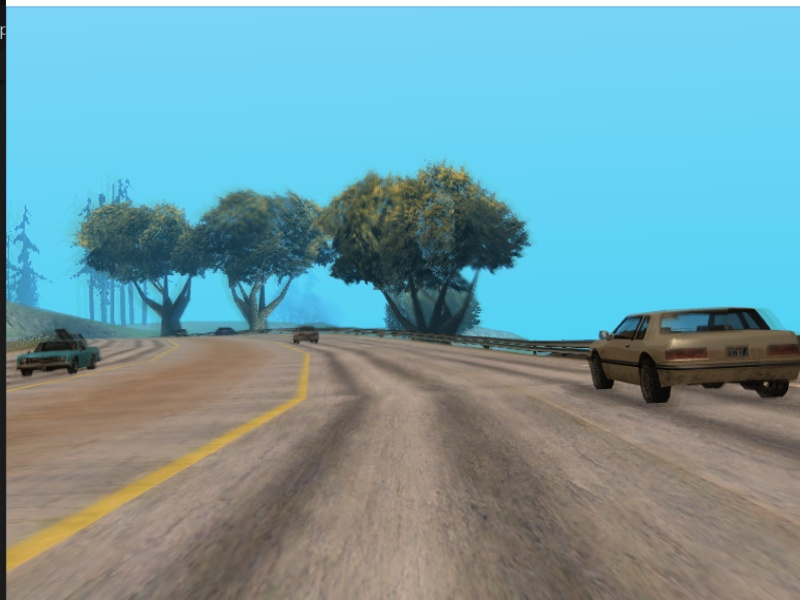vehicle: (585, 308, 797, 406), (11, 332, 104, 378), (290, 325, 320, 347), (212, 325, 236, 337)
